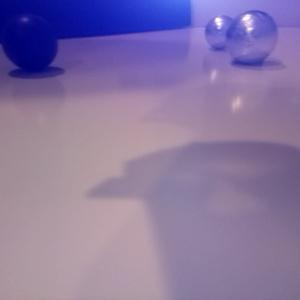alive_ball: (226, 9, 279, 63), (204, 15, 235, 49)
dead_ball: (1, 12, 58, 69)
